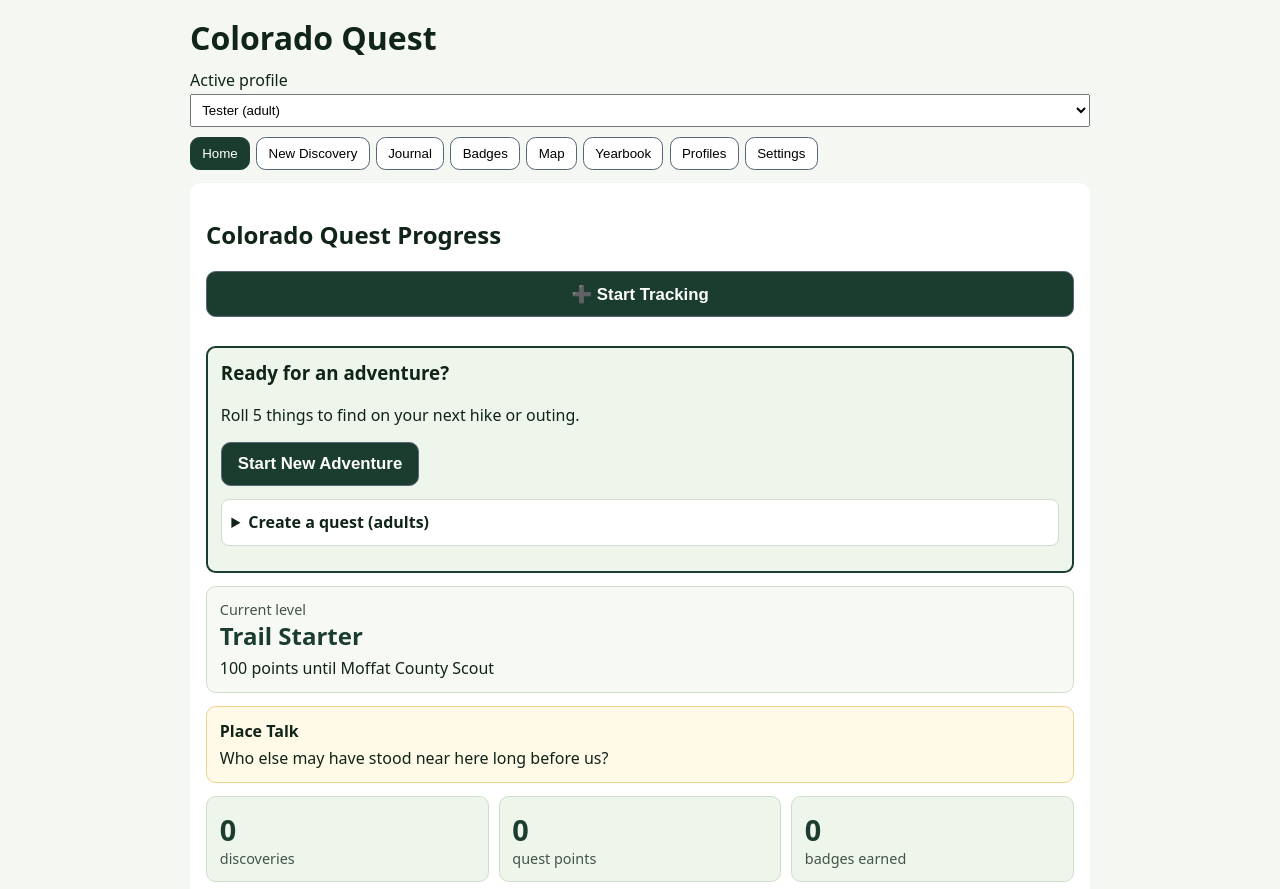
Test: adventure mode › end adventure returns to start prompt
What coordinates should you click on to do the following:
click the button "Start New Adventure"
I would click on:
 (320, 464)
Its box is [221, 442, 419, 486].
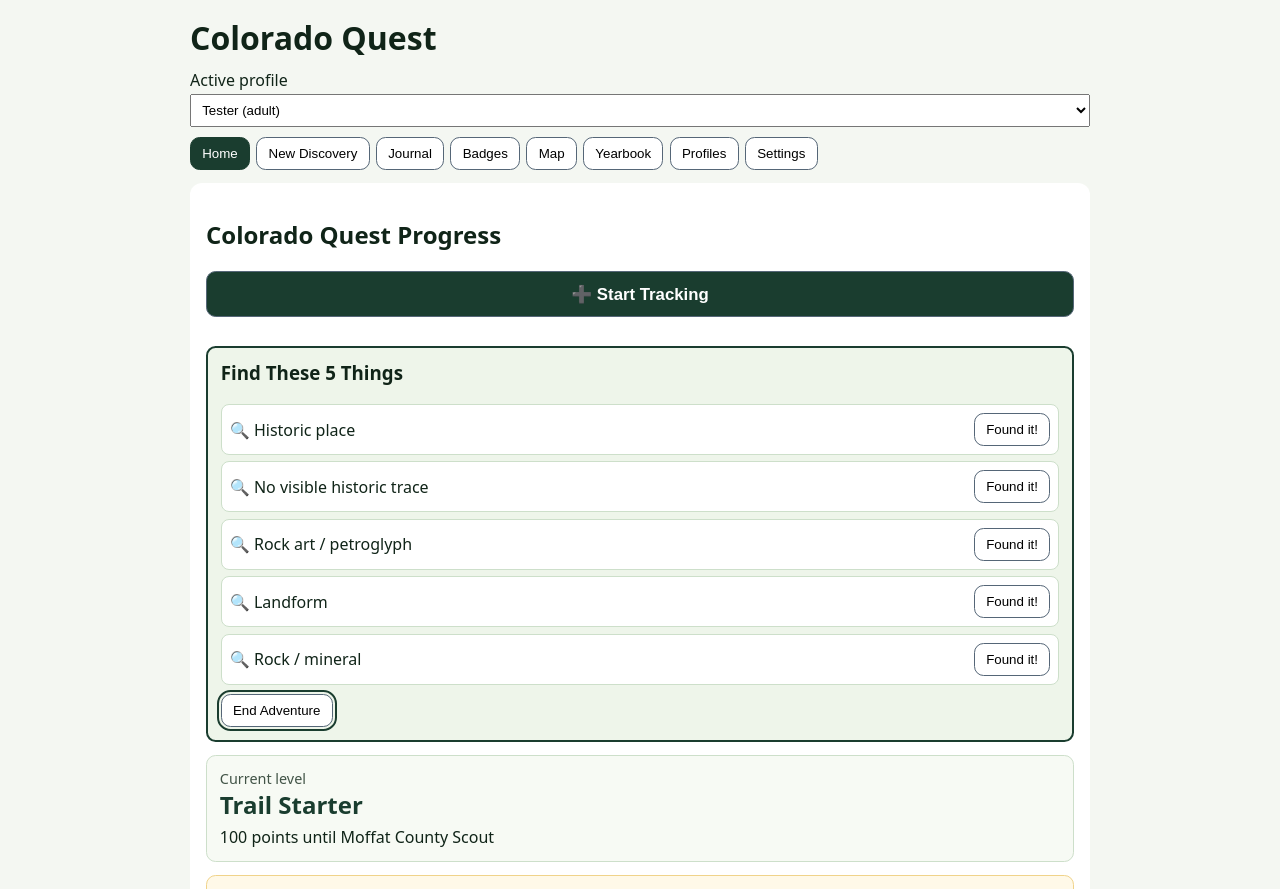
What coordinates should you click on to do the following:
click the button "End Adventure"
I would click on:
 (277, 711)
Its box is [221, 694, 333, 727].
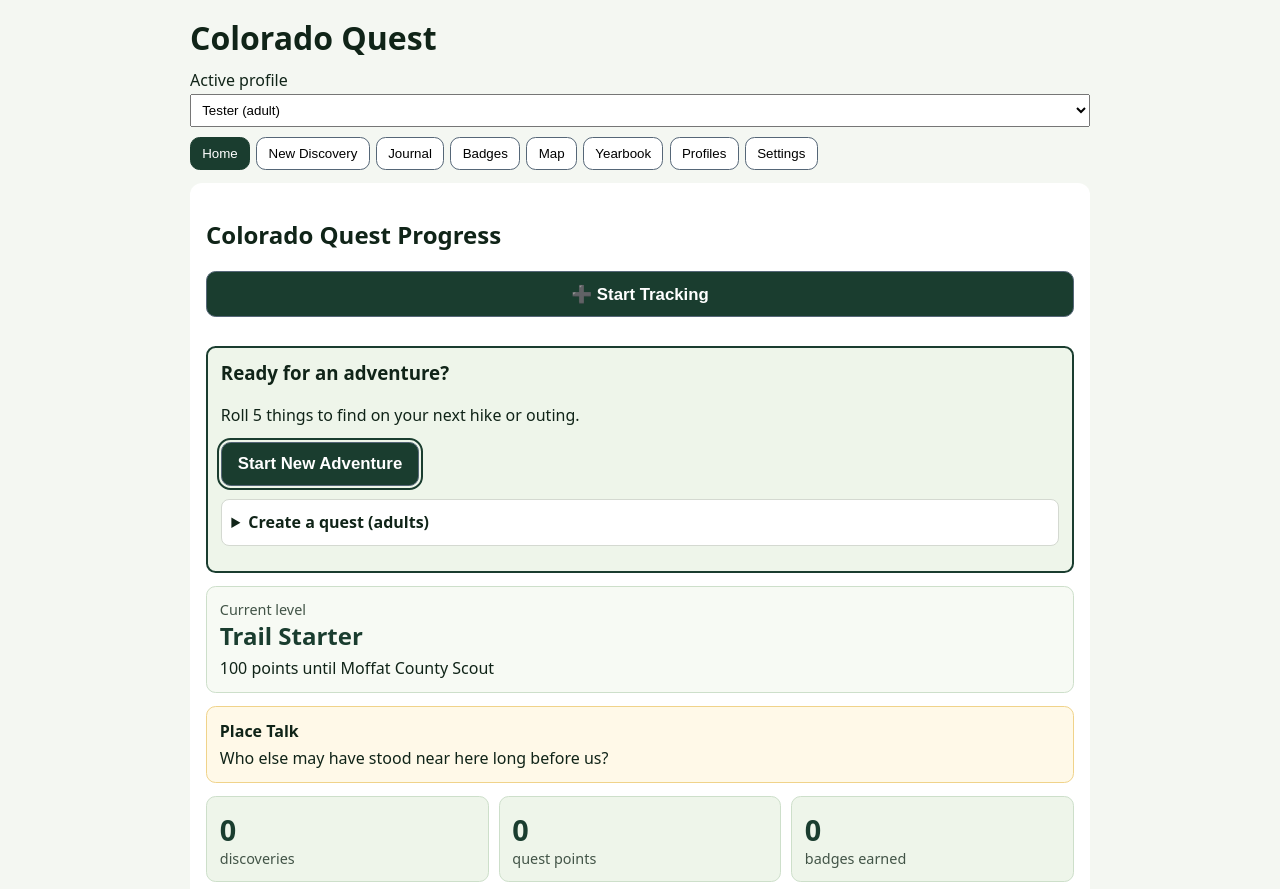
Expected: the heading "Ready for an adventure?" is shown, [221, 360, 449, 385]
